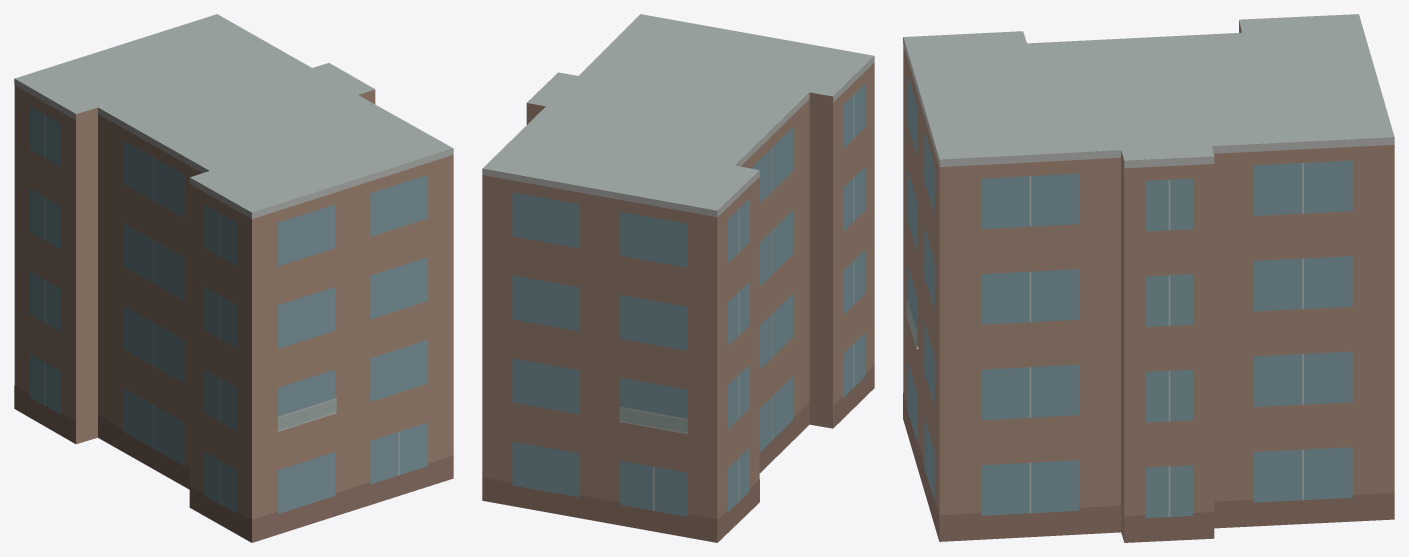
Rendered from survey-upis-32962318.glb.
The picture shows the model from 3 angles, left to right: view 1: azimuth 30°, elevation 25°; view 2: azimuth 150°, elevation 25°; view 3: azimuth 270°, elevation 25°; orthographic projection. The views are drawn at different scales.
Visible parts, largest first — view 1: survey-upis-32962318.tmp; view 2: survey-upis-32962318.tmp; view 3: survey-upis-32962318.tmp.
Boxes of the visible parts, <box> form: survey-upis-32962318.tmp: <box>14,14,453,542</box>; survey-upis-32962318.tmp: <box>482,14,874,542</box>; survey-upis-32962318.tmp: <box>903,14,1394,542</box>.
Size of the model in its own units: 10.18 by 12.35 by 14.4.
